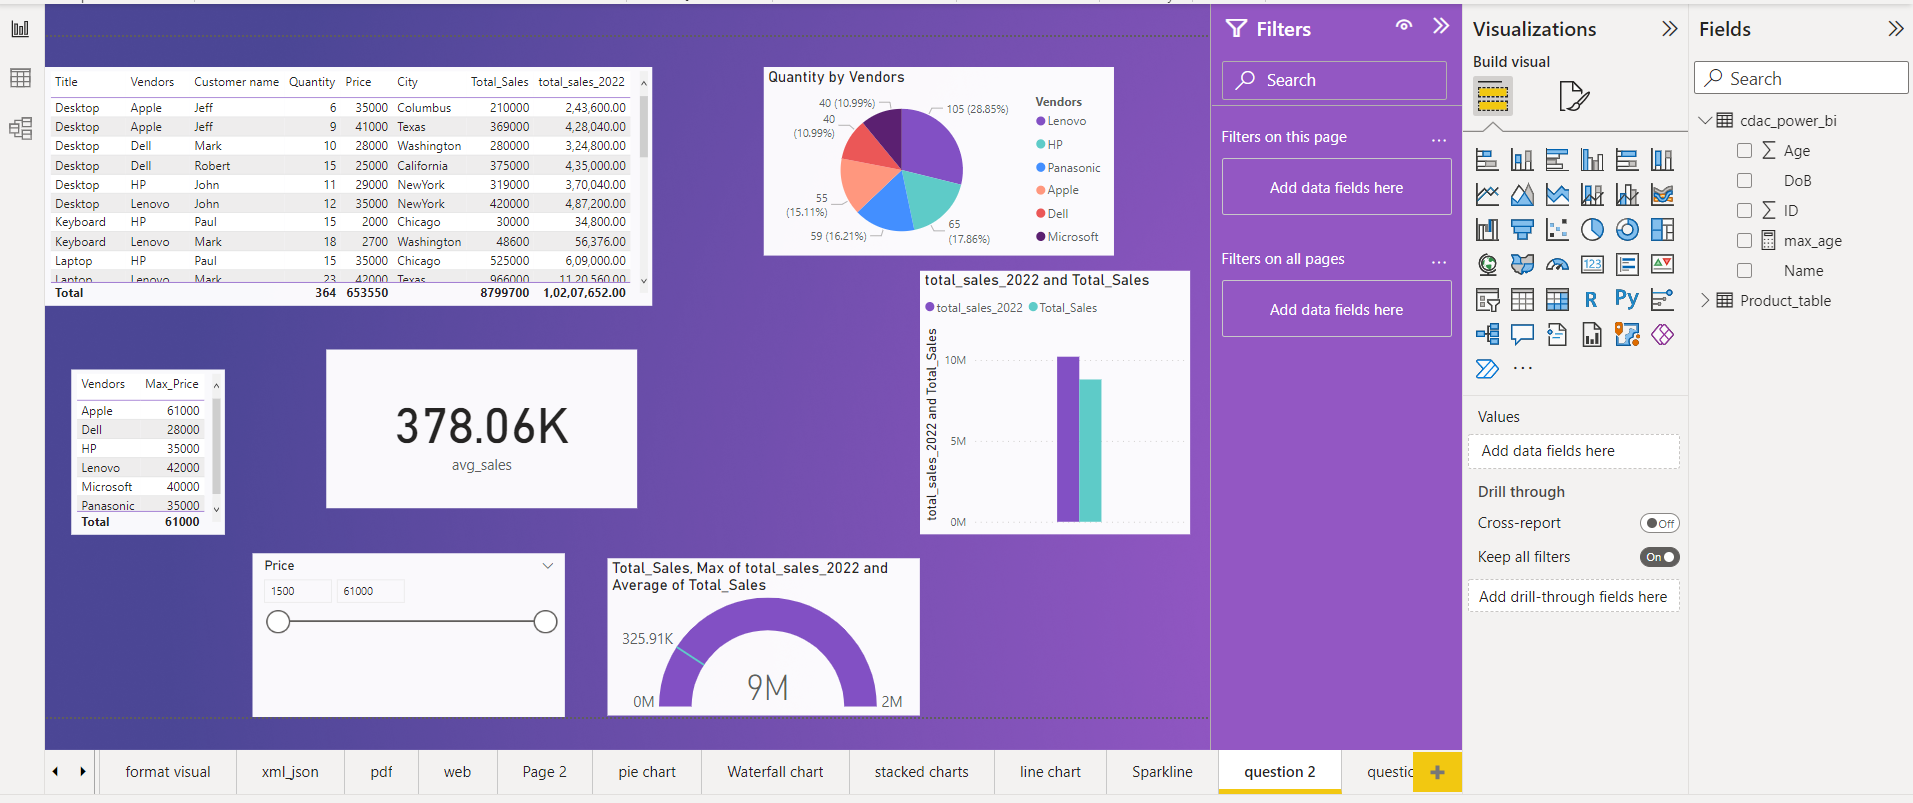

The page's visual inventory and layout, read from the dashboard file:
{"tool":"powerbi","page":{"name":"question 2","canvas":[1280,720],"ordinal":12},"visuals":[{"type":"tableEx","fields":{"Values":["Product_table.Vendors","Product_table.Max_Price"]},"box":[28.8,337.9,168.9,181.3],"z":0},{"type":"pieChart","fields":{"Category":["Product_table.Vendors"],"Y":["Product_table.Quantity"]},"box":[789.7,5.5,384.5,207.4],"z":1000},{"type":"clusteredColumnChart","fields":{"Y":["Product_table.total_sales_2022","Product_table.Total_Sales"]},"box":[961.4,229.4,296.7,289.8],"z":2000},{"type":"slicer","fields":{"Values":["Product_table.Price"]},"box":[228,539.7,343.3,179.9],"z":3000},{"type":"card","fields":{"Values":["Product_table.avg_sales"]},"box":[309,315.9,342,174.4],"z":4000},{"type":"gauge","fields":{"Y":["Product_table.Total_Sales"],"TargetValue":["Product_table.Total_Sales"],"MaxValue":["Product_table.total_sales_2022"]},"box":[618,545.2,343.3,173],"z":5000},{"type":"tableEx","fields":{"Values":["Product_table.Title","Product_table.Vendors","Product_table.Customer name","Product_table.Quantity","Product_table.Price","Product_table.City","Product_table.Total_Sales","Product_table.total_sales_2022"]},"box":[0,5.5,667.5,262.3],"z":6000}]}

Visuals, with their boxes on the page's 1280x720 design canvas (x1, y1, x2, y2). These are canvas units, not pixel positions in the 1913x803 screenshot, which may show the page scaled, cropped or inside an application window:
tableEx - Product_table.Vendors x Product_table.Max_Price: locate(29, 338, 198, 519)
pieChart - Product_table.Vendors x Product_table.Quantity: locate(790, 6, 1174, 213)
clusteredColumnChart - Product_table.total_sales_2022 x Product_table.Total_Sales: locate(961, 229, 1258, 519)
slicer - Product_table.Price: locate(228, 540, 571, 720)
card - Product_table.avg_sales: locate(309, 316, 651, 490)
gauge - Product_table.Total_Sales x Product_table.Total_Sales: locate(618, 545, 961, 718)
tableEx - Product_table.Title x Product_table.Vendors: locate(0, 6, 668, 268)
